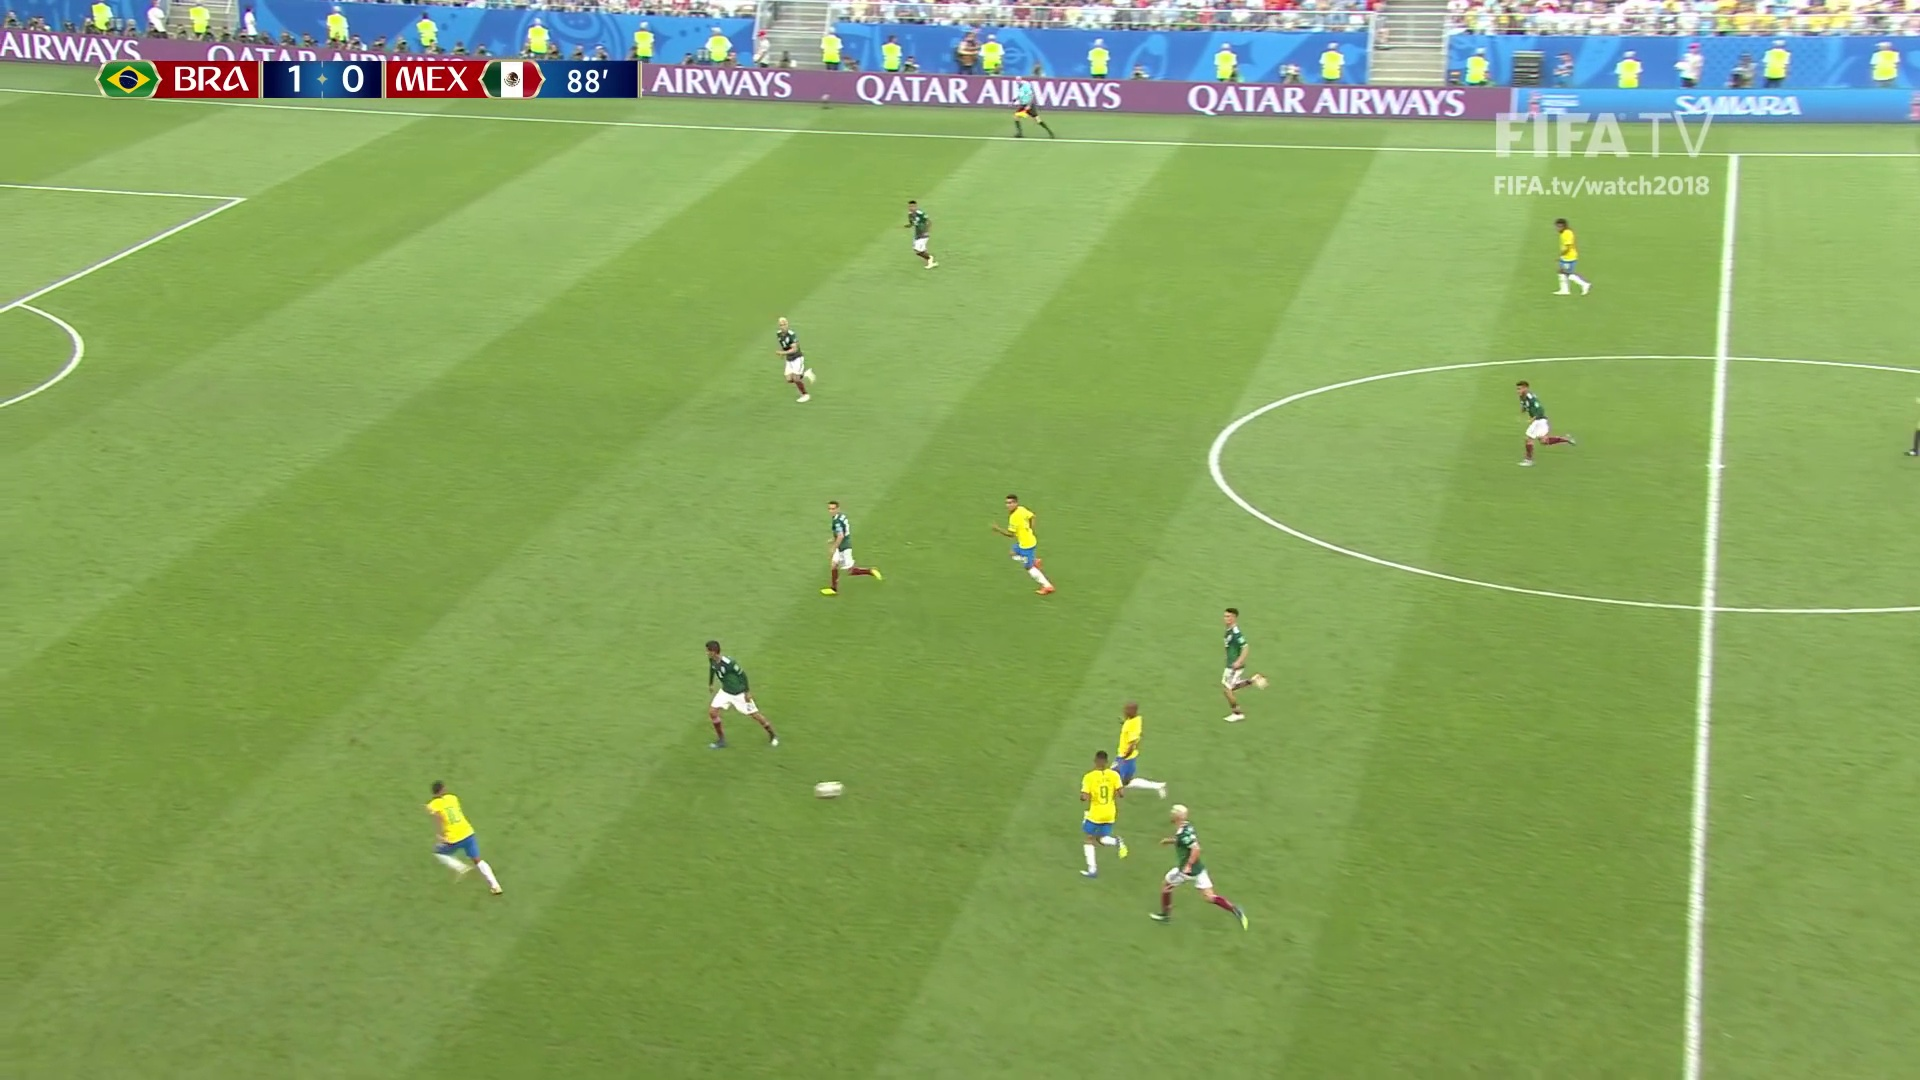ball: (812, 781, 846, 798)
person: (1153, 800, 1249, 927), (425, 779, 502, 891), (703, 640, 778, 750), (993, 497, 1053, 597), (820, 504, 882, 595), (1114, 701, 1170, 799), (1081, 753, 1123, 876), (1217, 608, 1263, 719), (773, 319, 817, 400), (1515, 382, 1559, 461), (1555, 215, 1590, 288), (905, 201, 936, 264)
